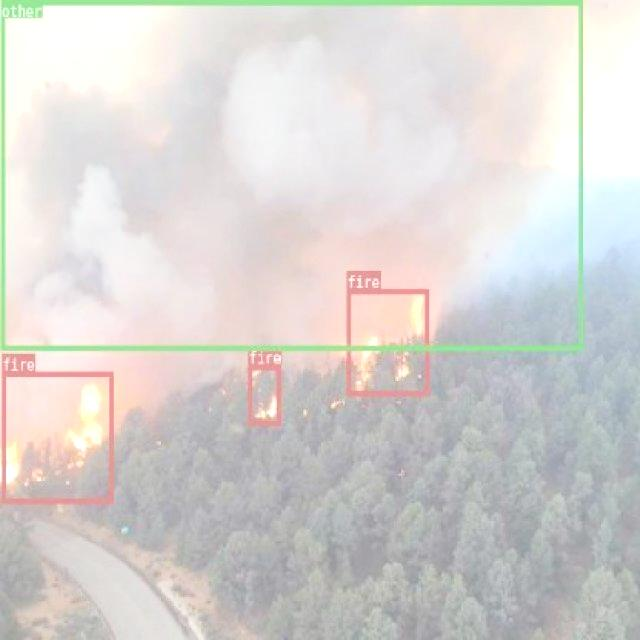fire: (0, 372, 114, 502), (346, 288, 428, 396), (248, 364, 280, 424)
